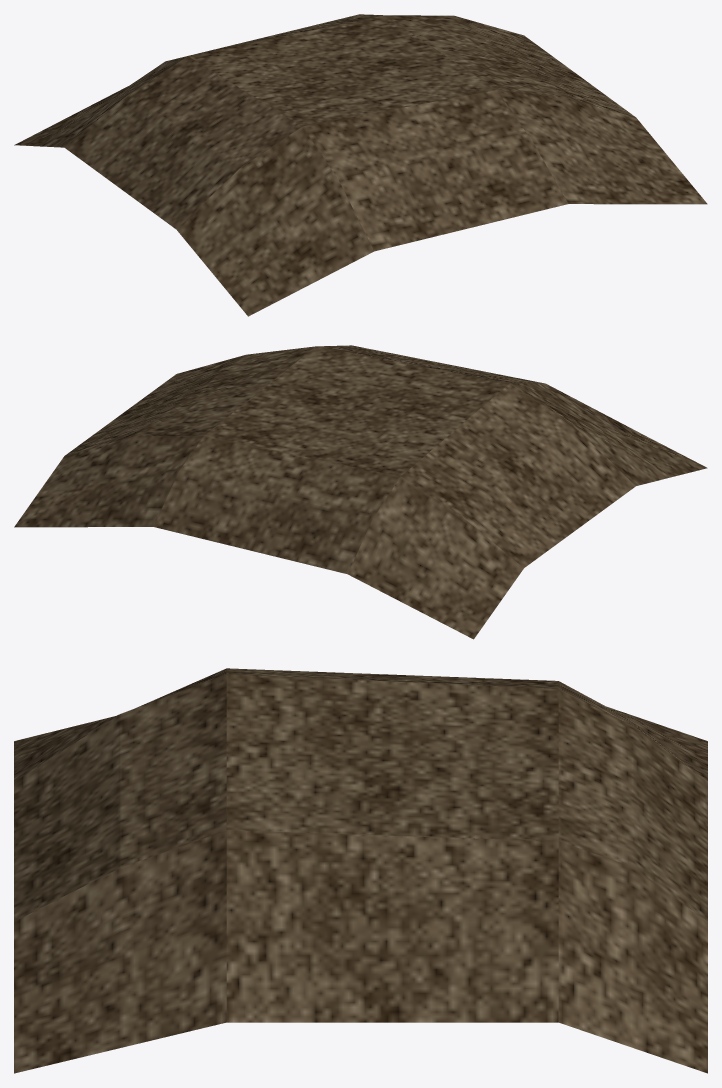
The model's file is SM_EC_Rock_Plane_Raised_03.fbx.
3 views of the same model, one above another, from view 1: azimuth 30°, elevation 25°; view 2: azimuth 150°, elevation 25°; view 3: azimuth 270°, elevation 25° (orthographic). The views are drawn at different scales.
Parts seen in each view (by area): view 1: SM_EC_Rock_Plane_Raised_03; view 2: SM_EC_Rock_Plane_Raised_03; view 3: SM_EC_Rock_Plane_Raised_03.
Part boxes in pixels (left/top/right/bottom): SM_EC_Rock_Plane_Raised_03: left=14, top=14, right=707, bottom=316; SM_EC_Rock_Plane_Raised_03: left=14, top=345, right=707, bottom=639; SM_EC_Rock_Plane_Raised_03: left=14, top=668, right=707, bottom=1073.
Bounding box in the file's own units: 2.37 × 2.09 × 0.5255.
